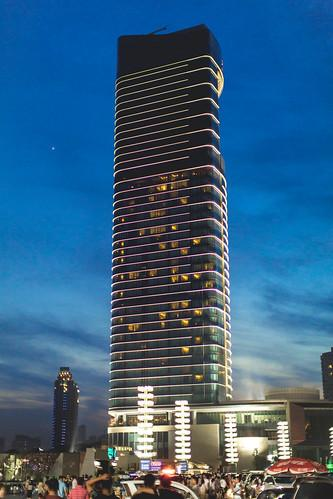building: (105, 20, 235, 481), (48, 363, 84, 456)
